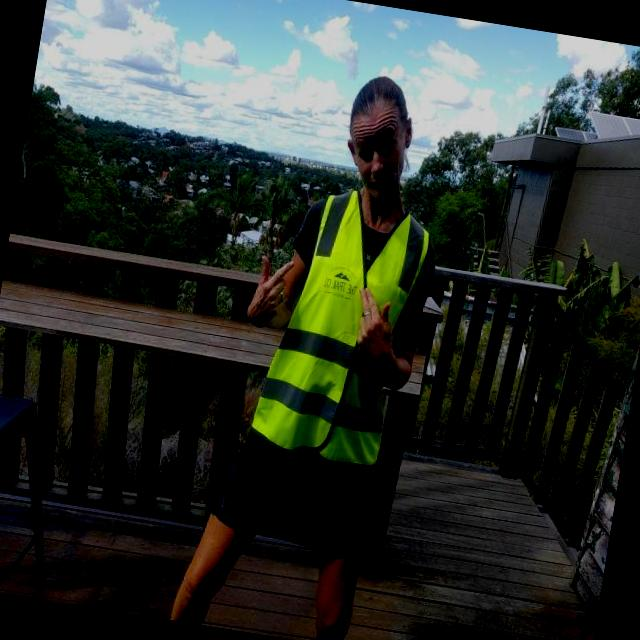vest: (259, 182, 422, 472)
